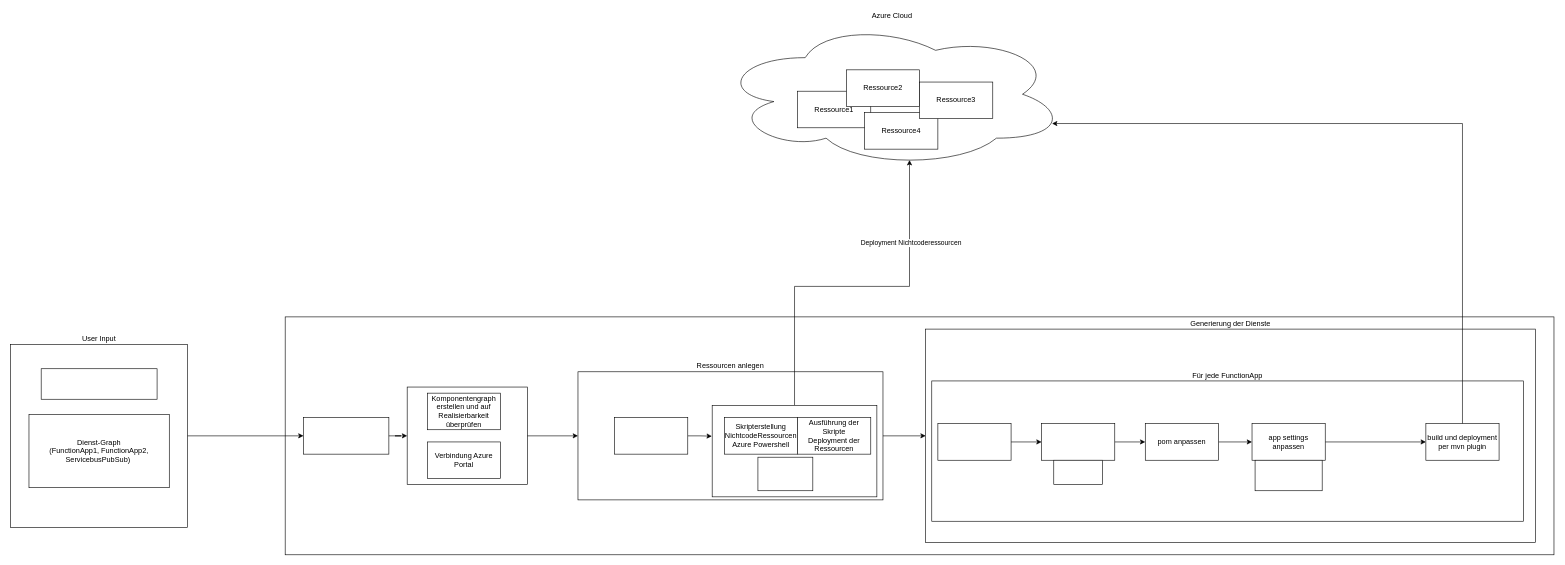
Some shapes in this 1565 by 565 pixel diagram are drawn without their labels. Here are the shapes that lost their labels. From the top down, the box of each, then its label:
(41, 368, 157, 399): Azure Portel Sachen (Subscription, RG)
(303, 417, 389, 454): Parsen des Inputs
(407, 386, 527, 485): Validierung des Inputs
(614, 417, 688, 454): Trennung Coderessource Nichtcoderessource
(937, 423, 1011, 460): mvn archetype für java function app
(1041, 423, 1115, 460): auszuführende Klasse für Functionapp generieren
(757, 457, 813, 491): Azure Powershell Templates
(1053, 460, 1103, 485): enthält alle Functions
(1254, 460, 1322, 491): enthält ConnectionStrings der Function
